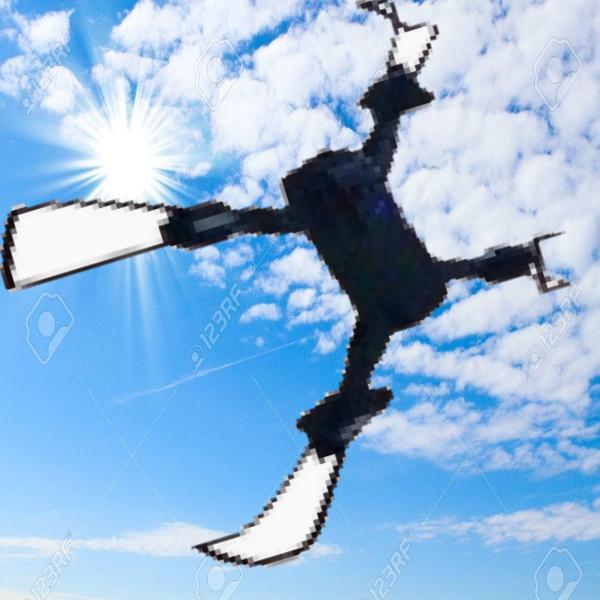drone: (9, 14, 582, 587)
